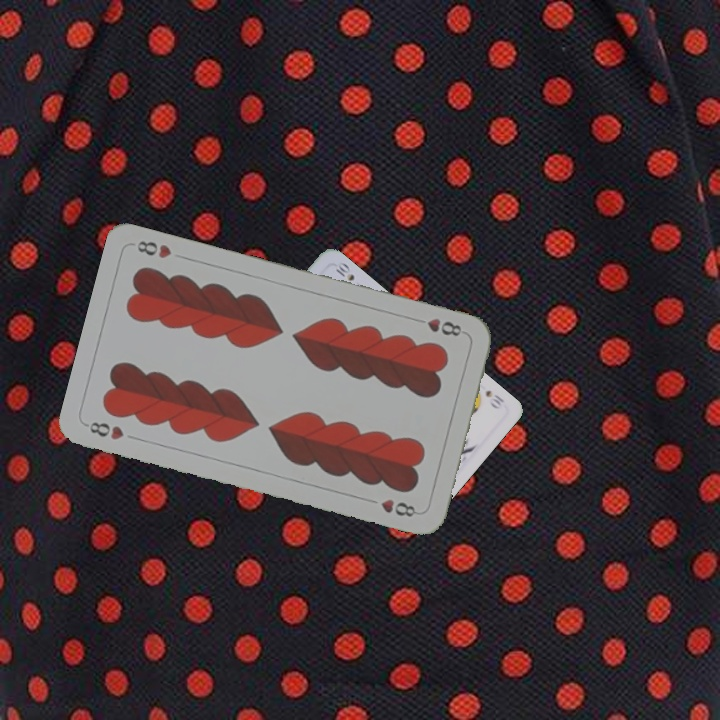H8: (410, 314, 465, 339), (82, 417, 127, 443)
S10: (481, 386, 507, 412)
